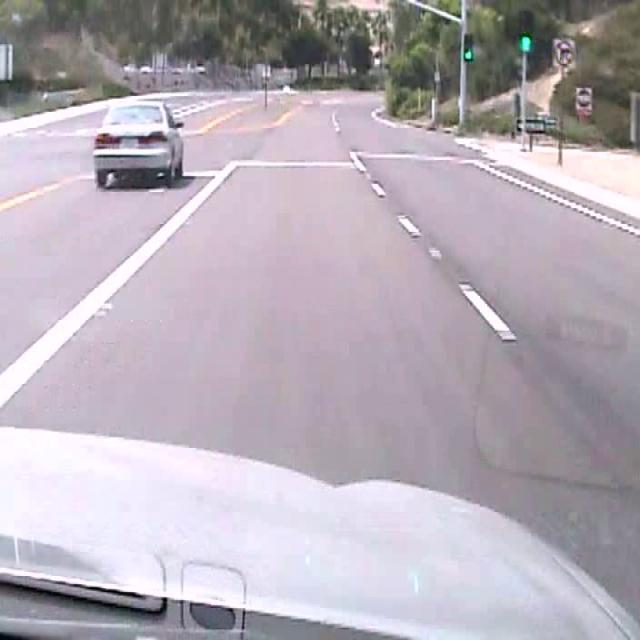noRightTurn: (552, 36, 576, 69)
